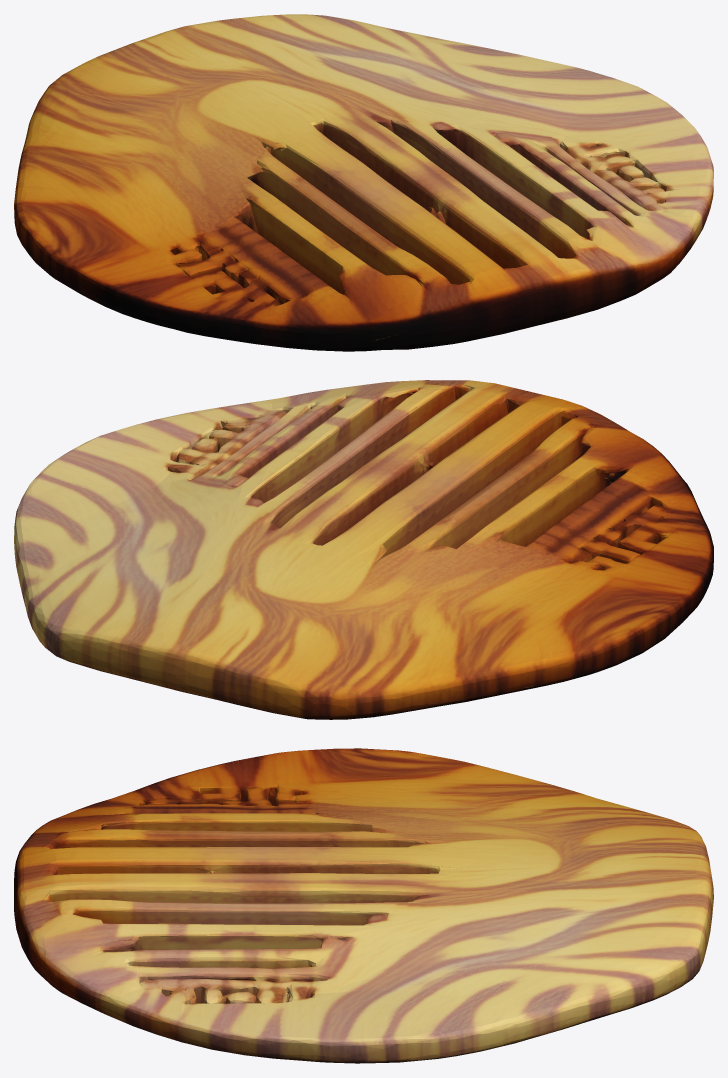
Rendered from wooden-beard-comb-dune.jpeg.glb.
The picture shows the model from 3 angles, top to bottom: view 1: azimuth 30°, elevation 25°; view 2: azimuth 150°, elevation 25°; view 3: azimuth 270°, elevation 25°; orthographic projection. The views are drawn at different scales.
Parts seen in each view (by area): view 1: world; view 2: world; view 3: world.
Part boxes in pixels (left/top/right/bottom): world: left=14, top=14, right=713, bottom=351; world: left=14, top=380, right=713, bottom=719; world: left=14, top=748, right=713, bottom=1063.
Bounding box in the file's own units: 0.9955 × 0.0885 × 0.9989.
1 material, 1 textured.
